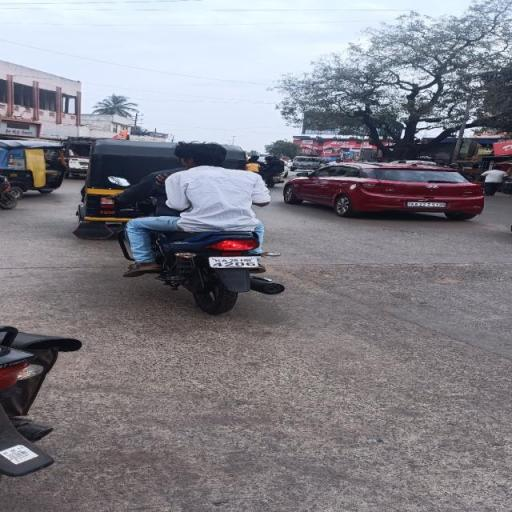bike: (106, 140, 289, 316)
numberplate: (210, 258, 259, 268)
withouthelmet: (175, 143, 227, 166)
